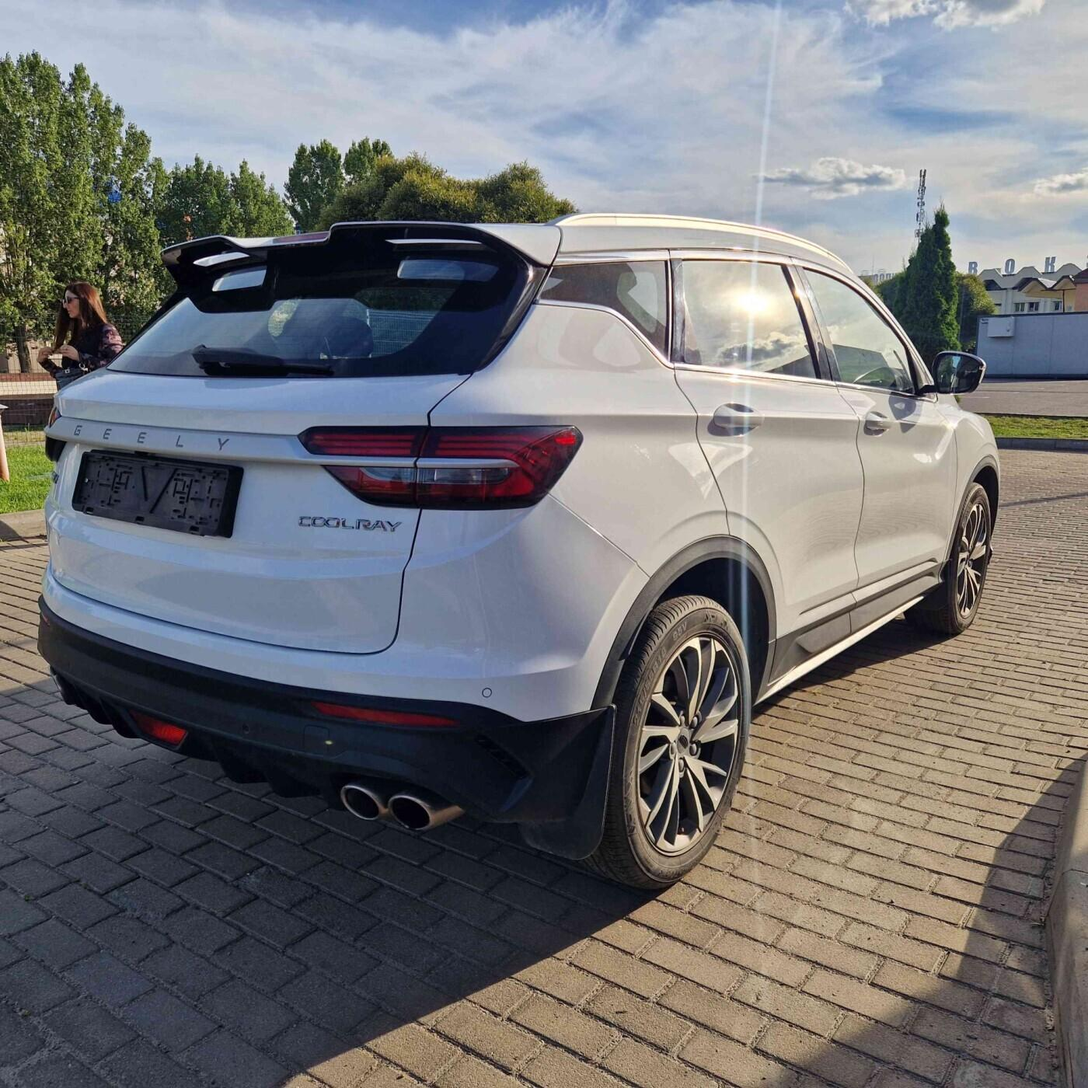Coolray_2019-2023: (28, 210, 1009, 884)
